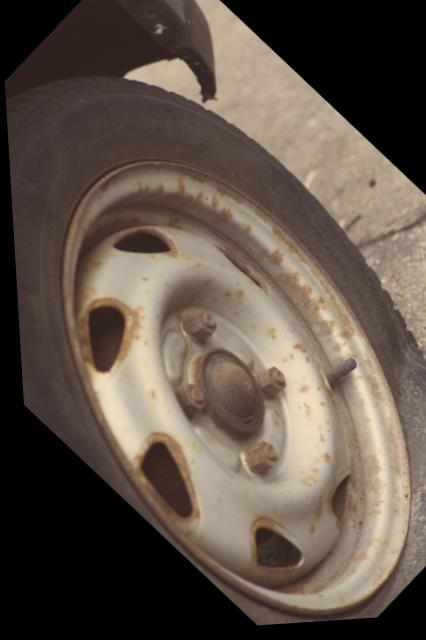tire flat: (4, 71, 426, 628)
